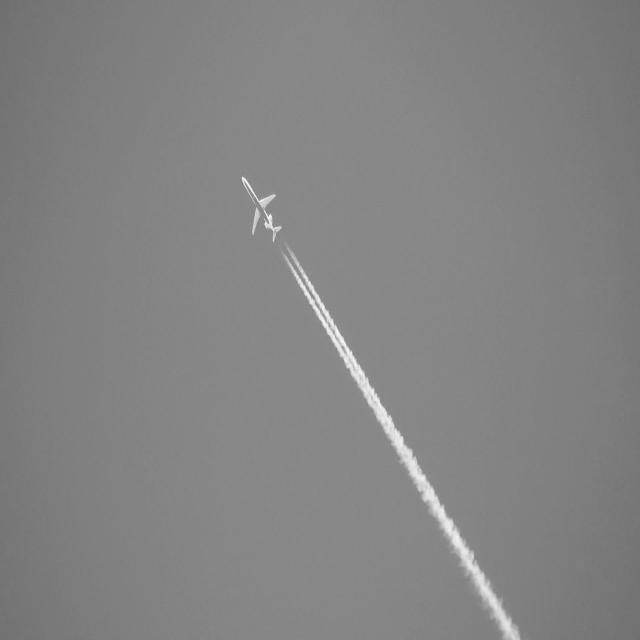aeroplane: (239, 175, 284, 246)
